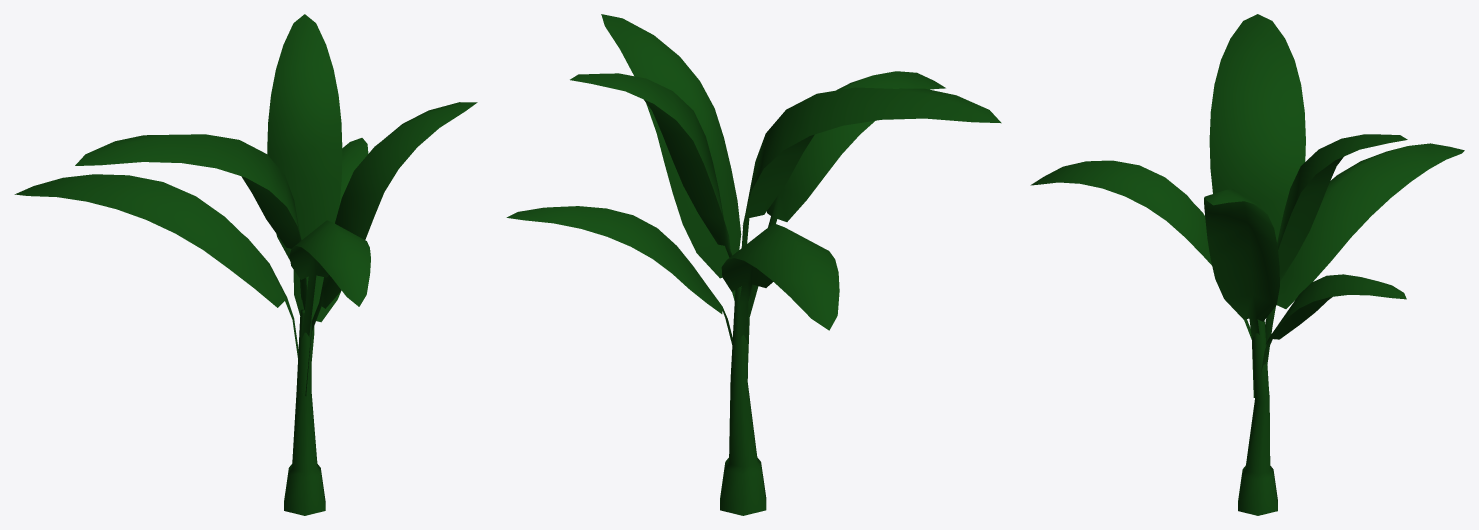
File: Bush_004.FBX
3 renders of one model, left to right at view 1: azimuth 30°, elevation 25°; view 2: azimuth 150°, elevation 25°; view 3: azimuth 270°, elevation 25°, orthographic. The views are drawn at different scales.
Visible parts, largest first — view 1: Bush_004; view 2: Bush_004; view 3: Bush_004.
Boxes of the visible parts, x1,y1,x2,y2 form: Bush_004: (14,14,477,515); Bush_004: (506,14,1001,515); Bush_004: (1030,14,1464,515).
Size of the model in its own units: 77.87 by 81.49 by 79.72.
